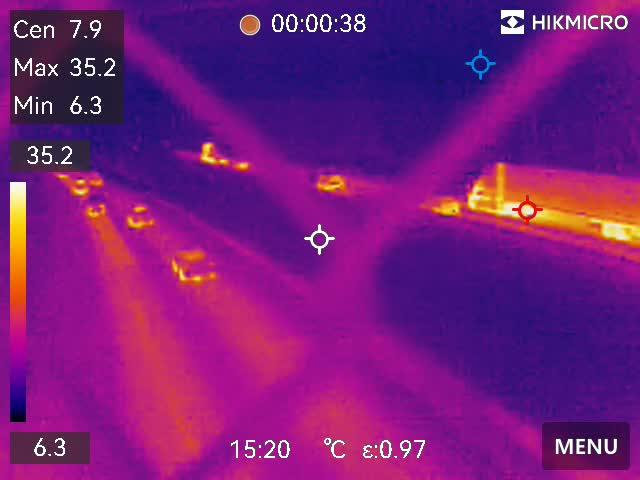heavyTruck: (474, 160, 640, 239)
vehicle: (166, 248, 222, 284)
